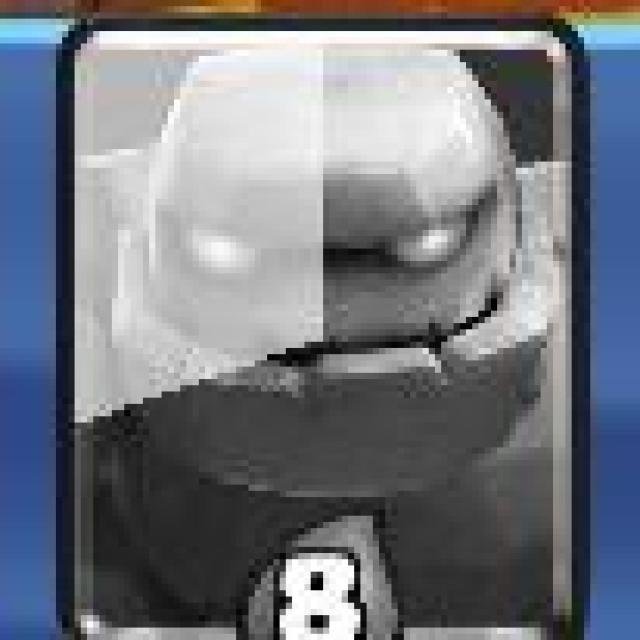Golem: (58, 17, 592, 640)
